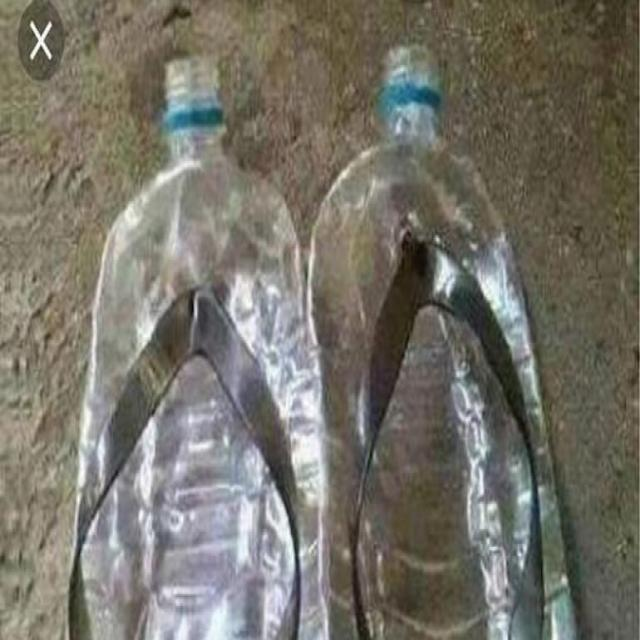plastic_bottle: (325, 58, 567, 640), (93, 70, 318, 640)
